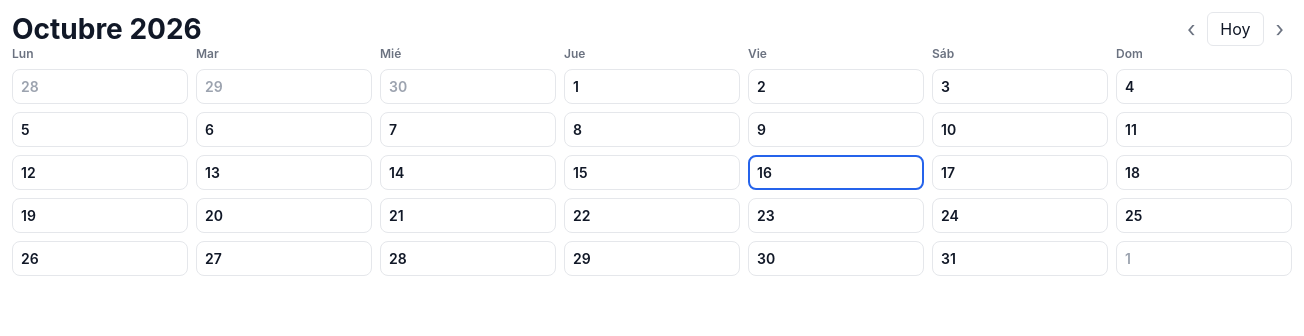
Test: muestra el mes de hoy y navega
Expected: the heading "Octubre 2026" is shown, [12, 12, 202, 46]
Click the button named "Mes anterior": (1191, 29) [1179, 14, 1203, 44]
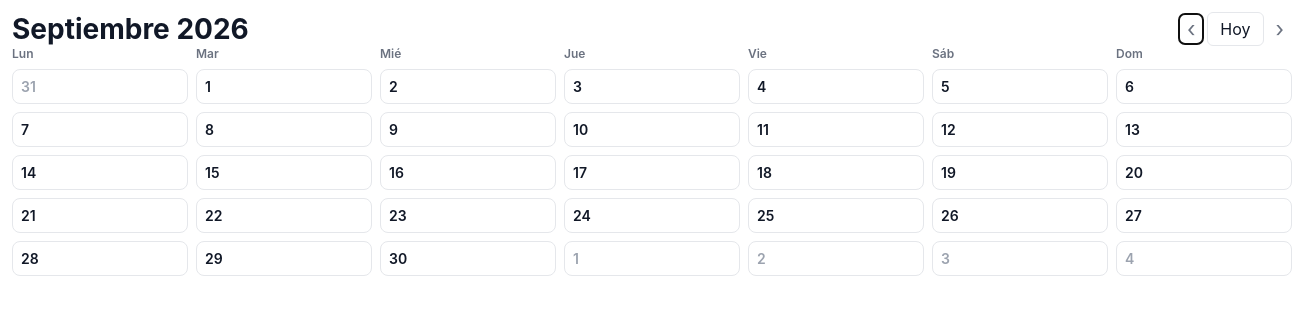
Expected: the heading "Septiembre 2026" is shown, [12, 12, 249, 46]
Click the button named "Mes siguiente": (1280, 29) [1268, 14, 1292, 44]
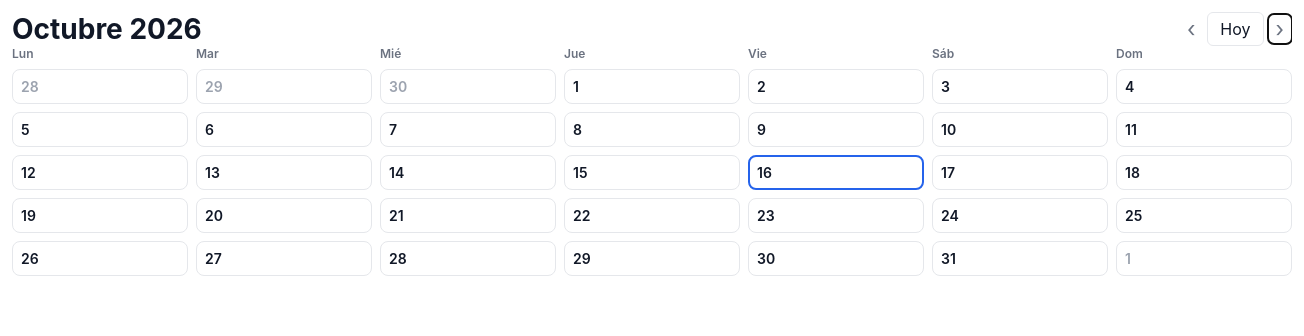
Click the button named "Mes siguiente": (1280, 29) [1268, 14, 1292, 44]
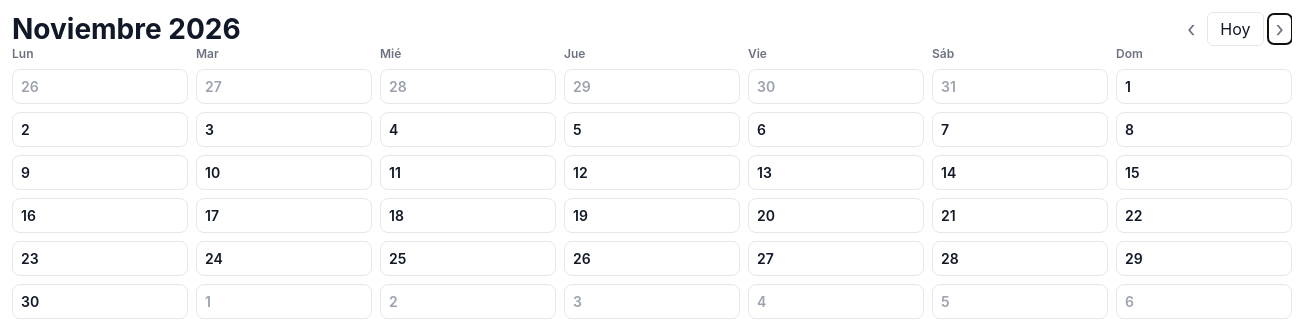
Expected: the heading "Noviembre 2026" is shown, [12, 12, 241, 46]
